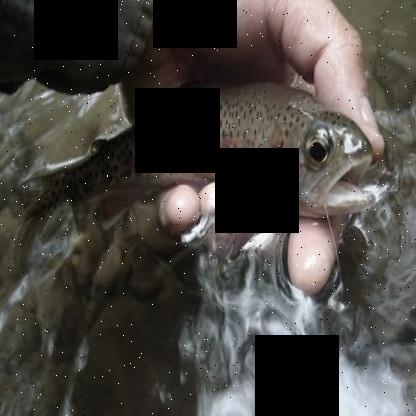fish: (12, 74, 382, 264)
